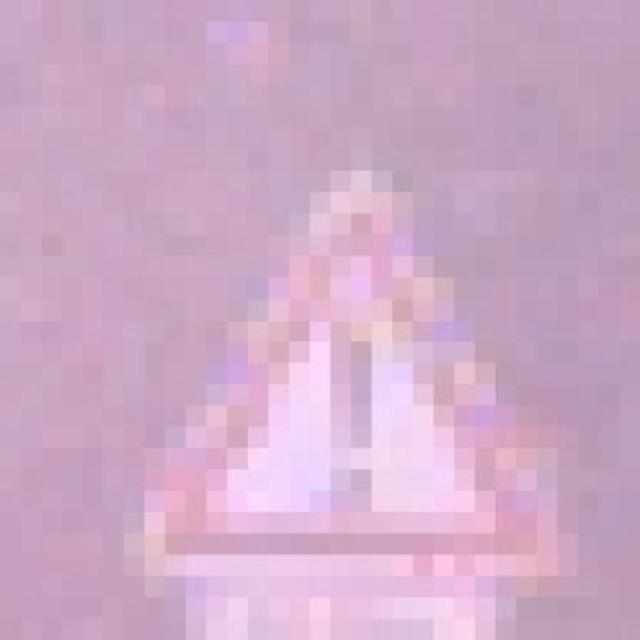Attention Please-: (82, 128, 578, 597)
